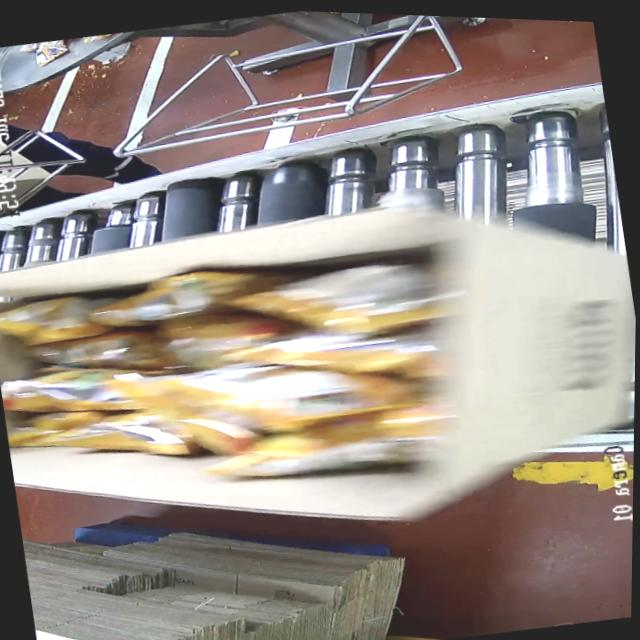FRENCH_CHEESE: (0, 224, 447, 526)
